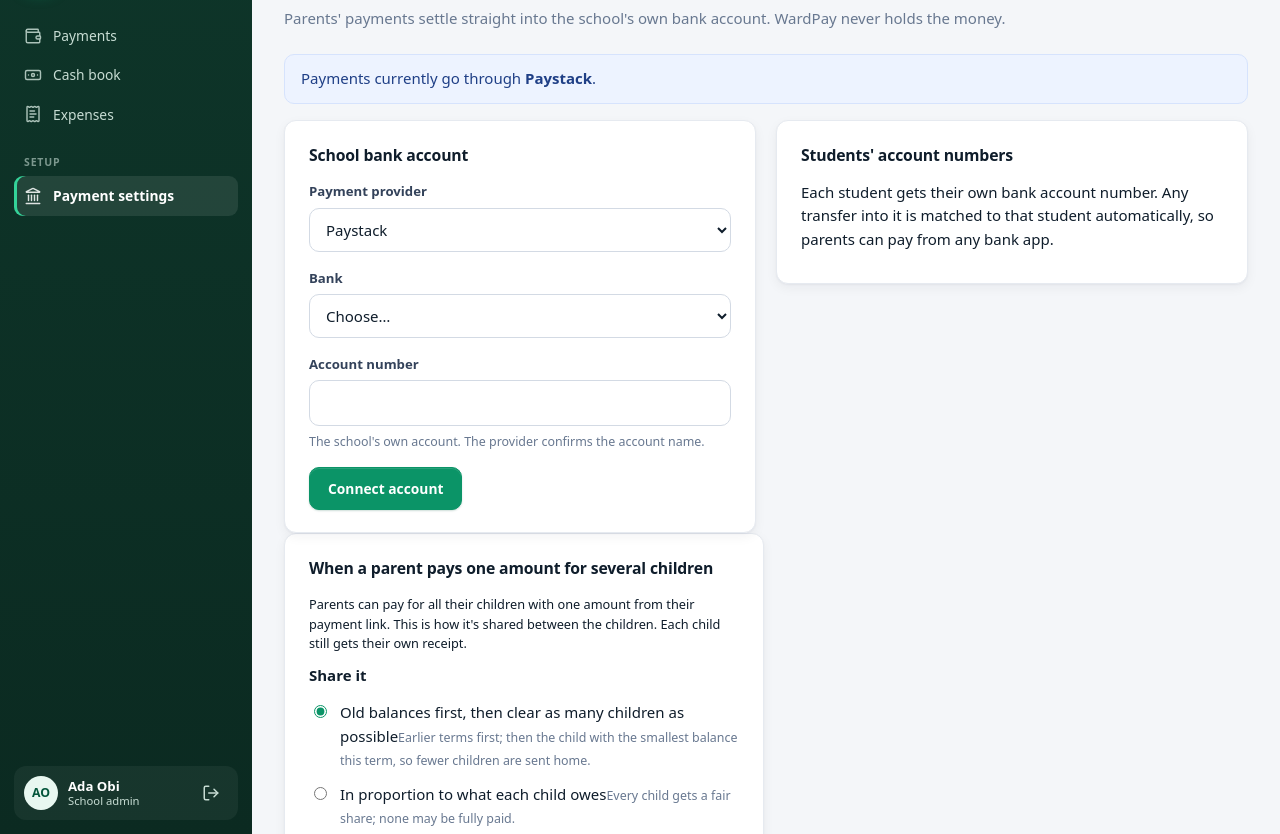
Scenario: family payment rule › lets the proprietor choose how one amount is shared between children
Expected: the radio button labelled "clear as many children as possible" is checked, [314, 705, 327, 718]
What coordinates should you click on to do the following:
click the radio button labelled "In proportion"
I would click on:
 (320, 794)
Its box is [314, 787, 327, 800].
(page scrolled)
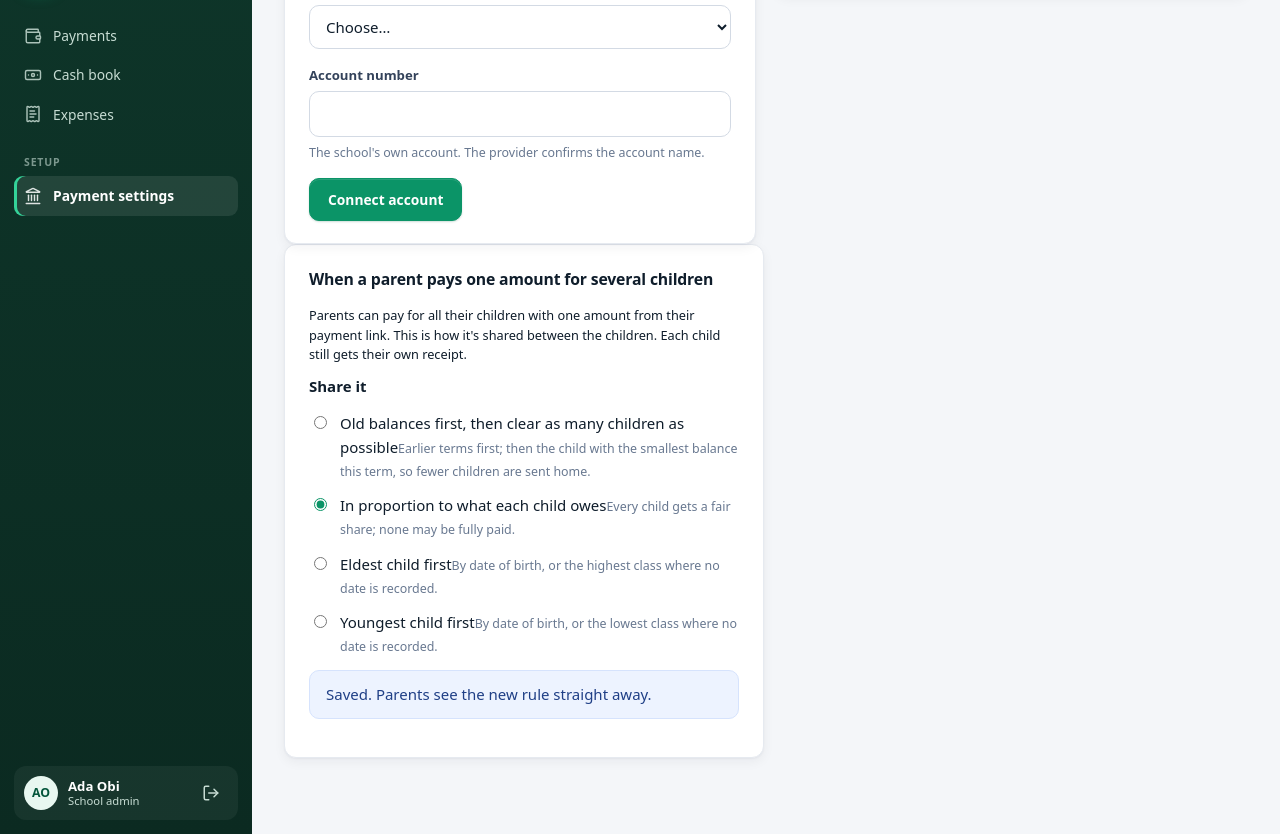
Now the text "Saved. Parents see the new rule straight away." is shown, box [309, 670, 739, 719]
